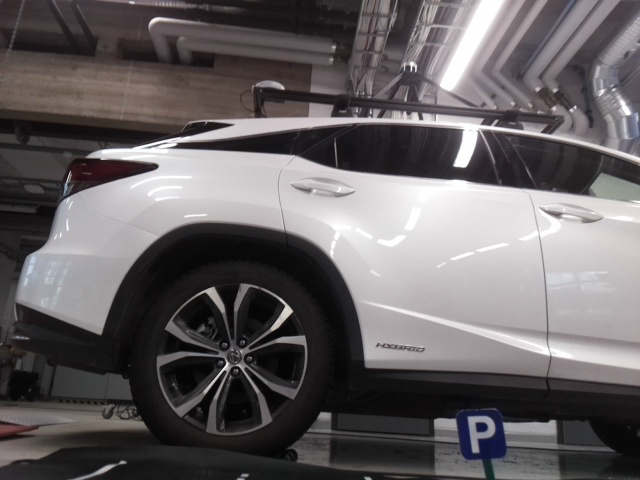Parking: (455, 409, 505, 458)
